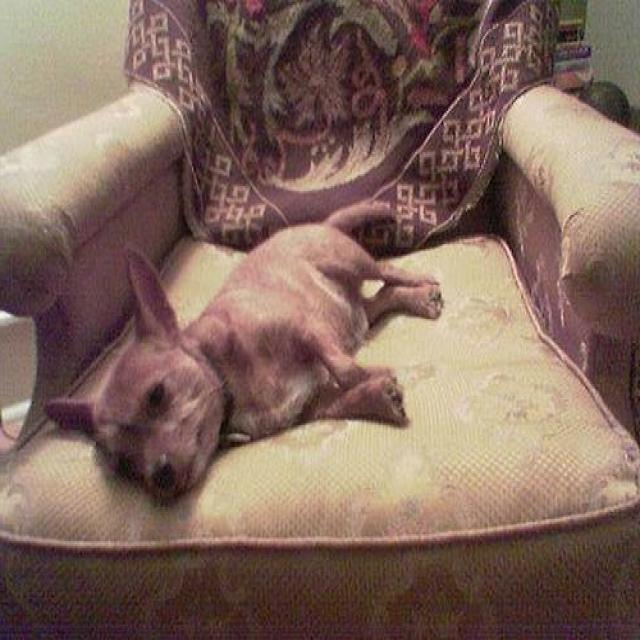chihuahua: (44, 200, 442, 507)
